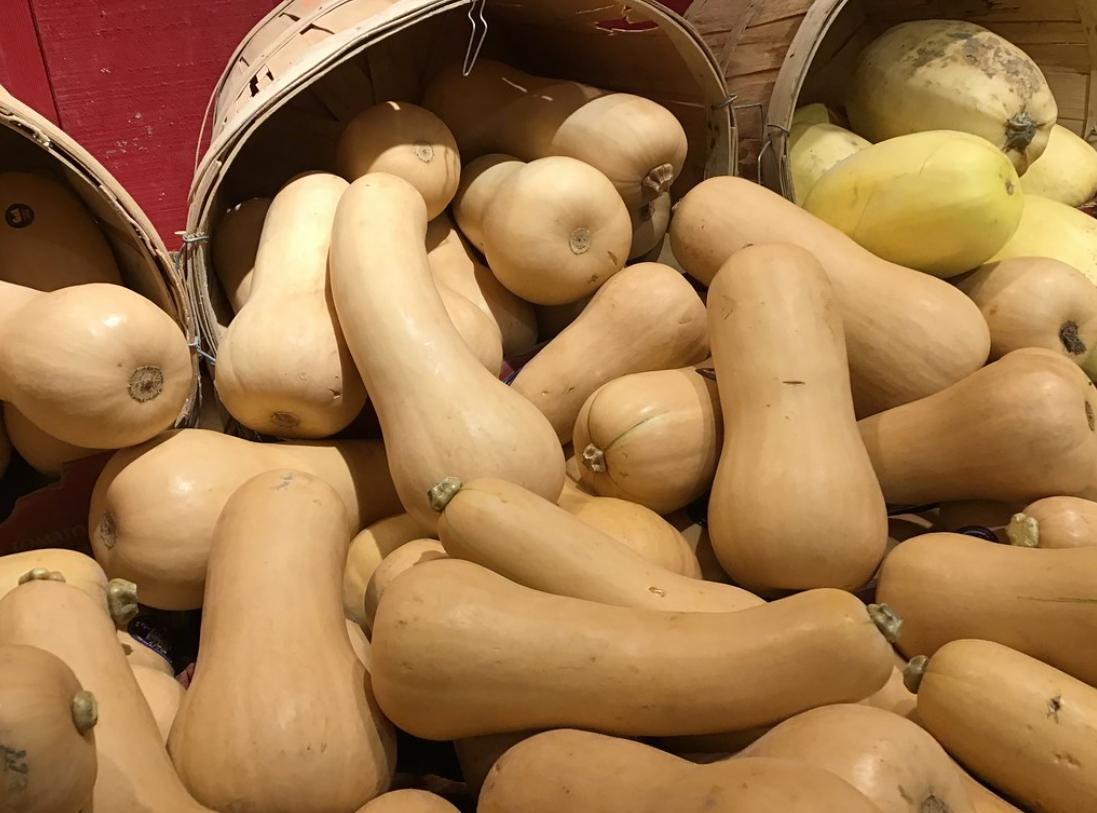butternut squash: (214, 26, 700, 439), (470, 578, 1097, 813), (637, 165, 1097, 477), (378, 491, 887, 750), (0, 481, 355, 813), (0, 70, 184, 503)
